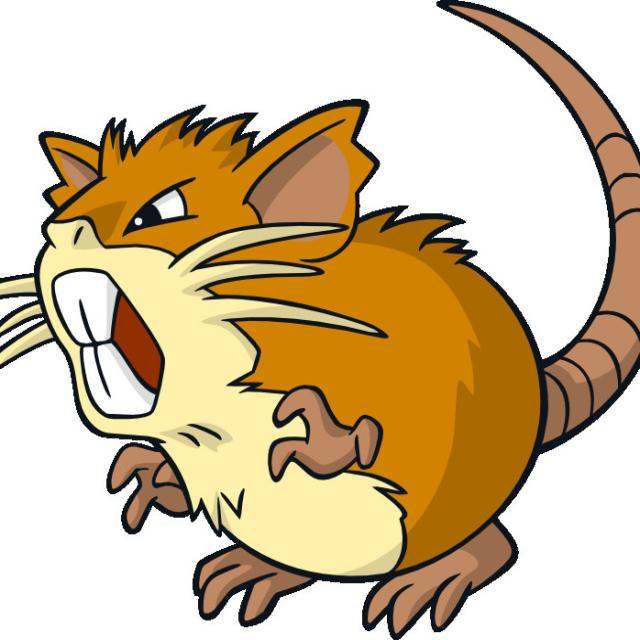Raticate: (28, 97, 573, 636)
